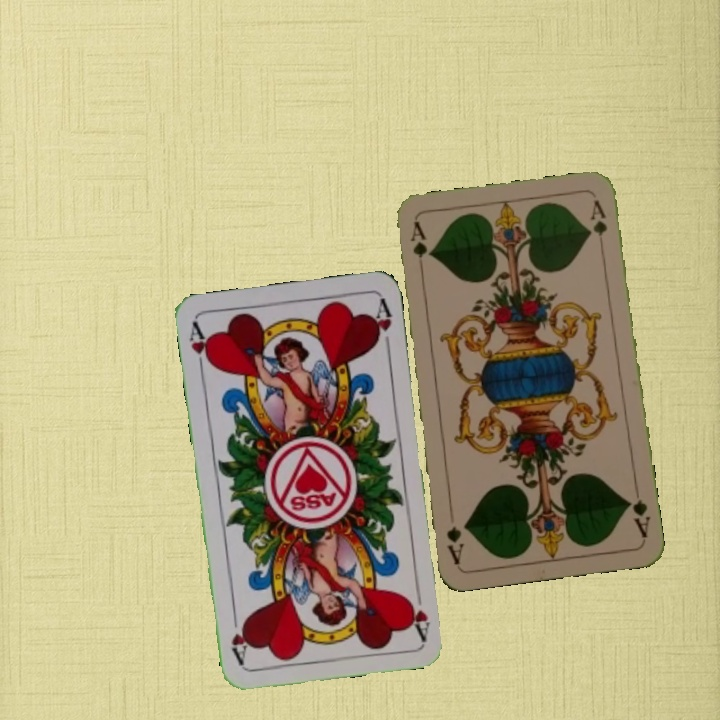GA: (623, 482, 653, 541), (407, 218, 430, 278)
HA: (185, 319, 215, 378), (405, 582, 433, 642)
